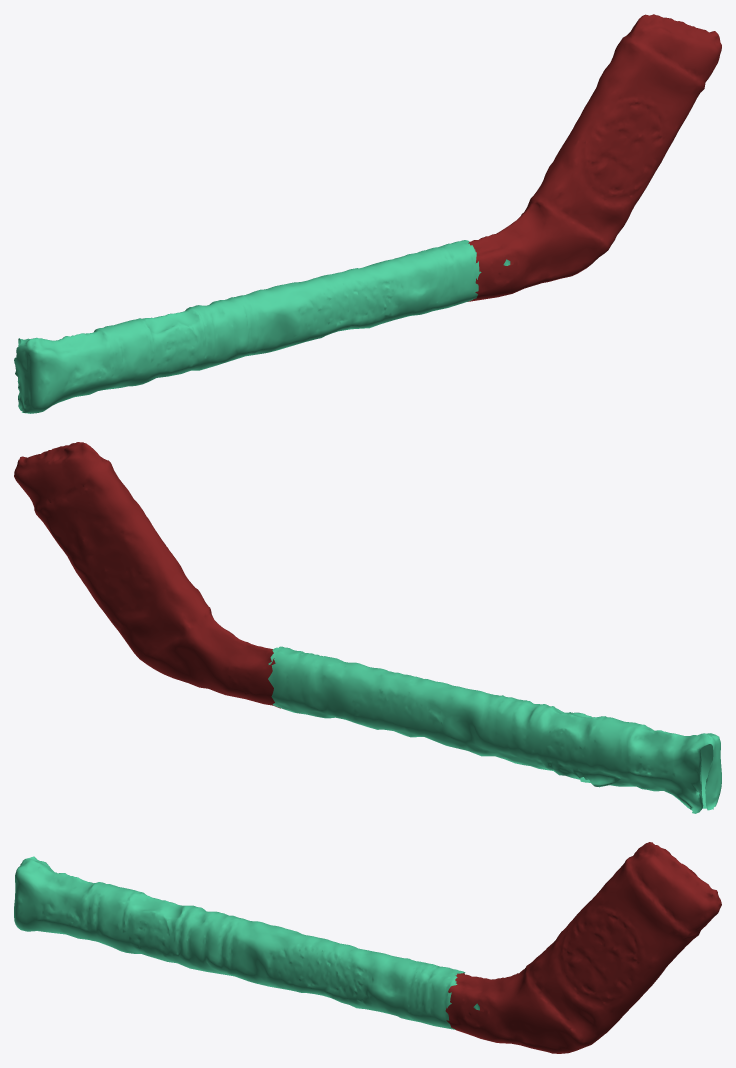
Rendered from object_deformed_4.obj.
The picture shows the model from 3 angles, top to bottom: view 1: azimuth 30°, elevation 25°; view 2: azimuth 150°, elevation 25°; view 3: azimuth 330°, elevation 25°; orthographic projection. The views are drawn at different scales.
Size of the model in its own units: 0.526 by 0.1652 by 0.0482.
